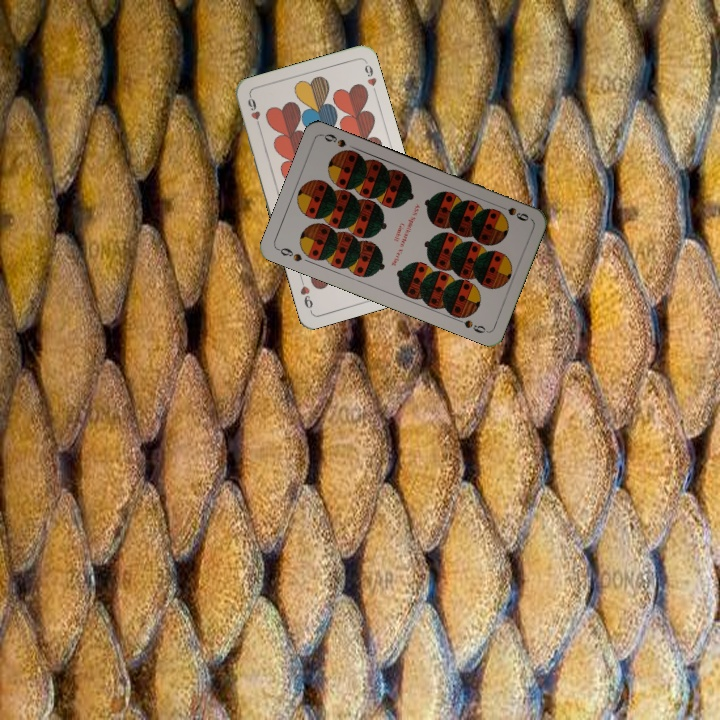H9: (243, 92, 263, 132)
S9: (493, 201, 531, 224), (274, 244, 305, 264)
